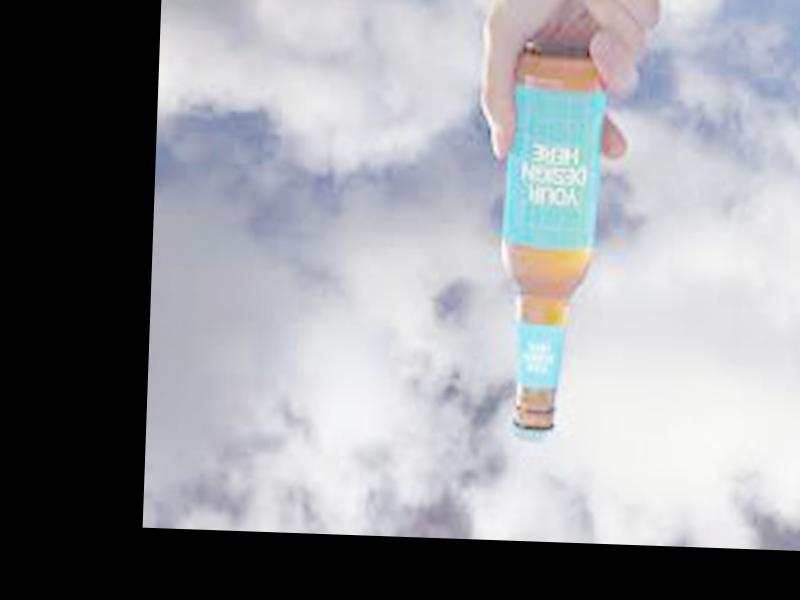Beer: (494, 47, 598, 441)
